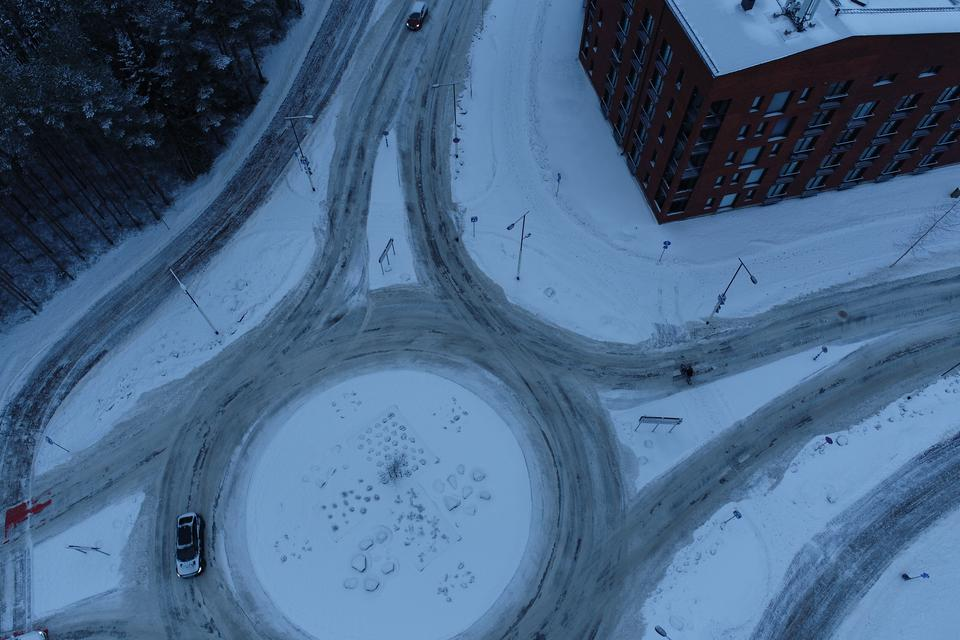intersection: (0, 454, 54, 640)
roundabout: (79, 253, 686, 640)
